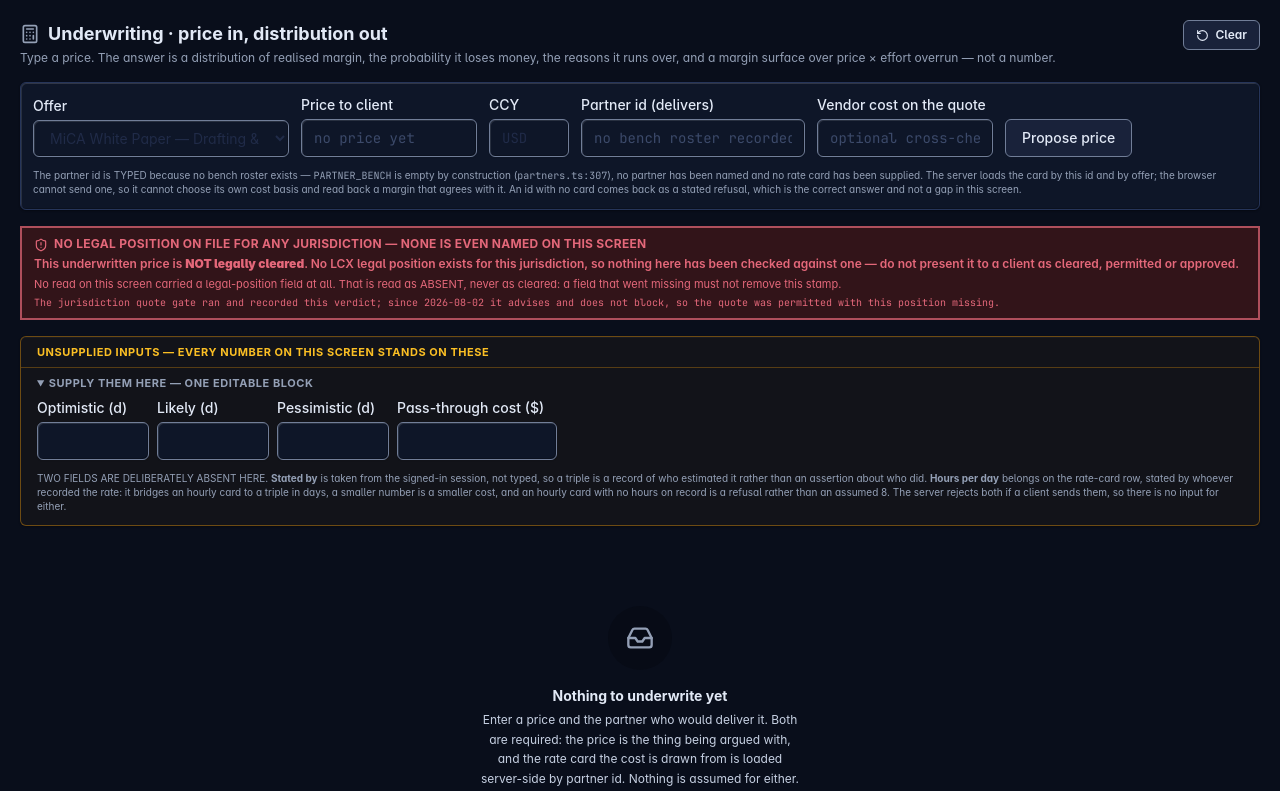
Test: the basis of the distribution › states that a prior comes from founder-entered estimates and not from outcomes
The width and height of the screenshot is (1280, 791).
Step 1. Type "10000" into the field with test id "price-input" → [389, 138], box [301,119,477,157]
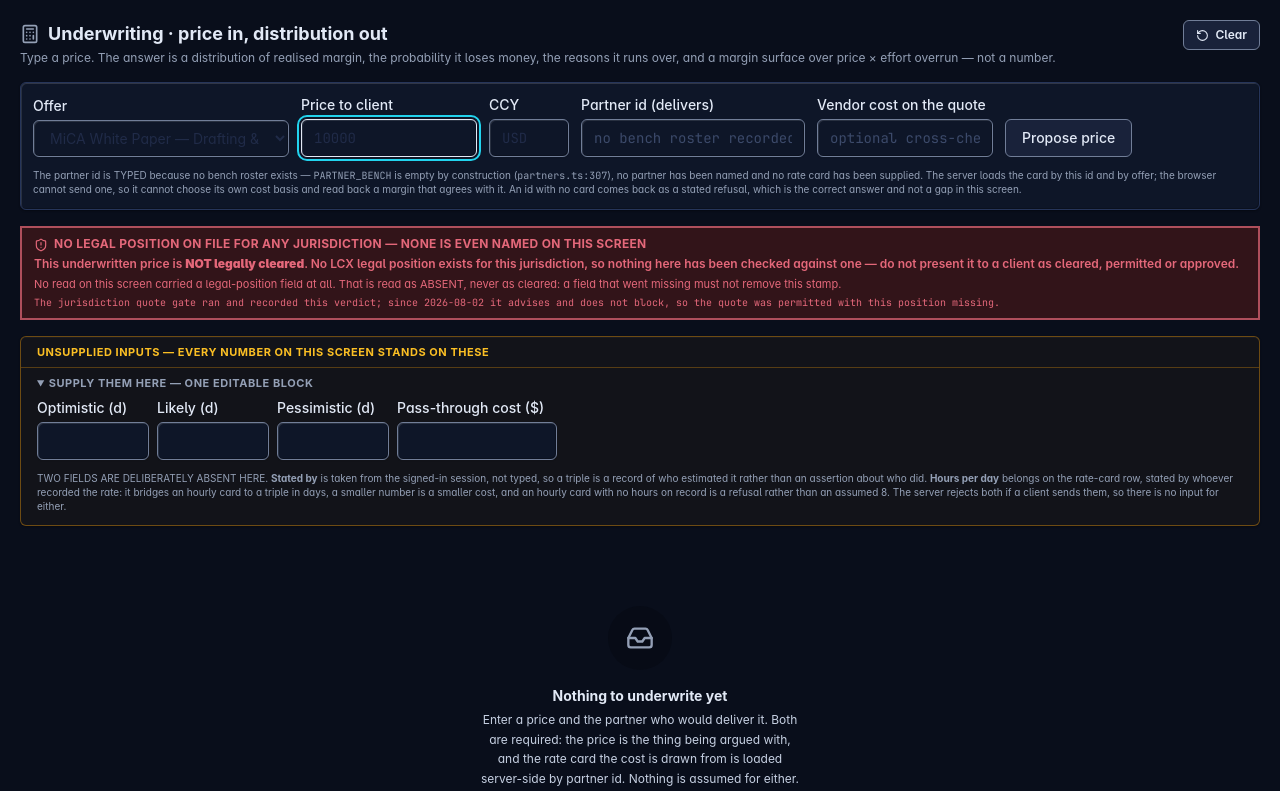
Step 2. Type "partner-1" into the field with test id "partner-input" → [693, 138], box [581,119,805,157]
(page scrolled)
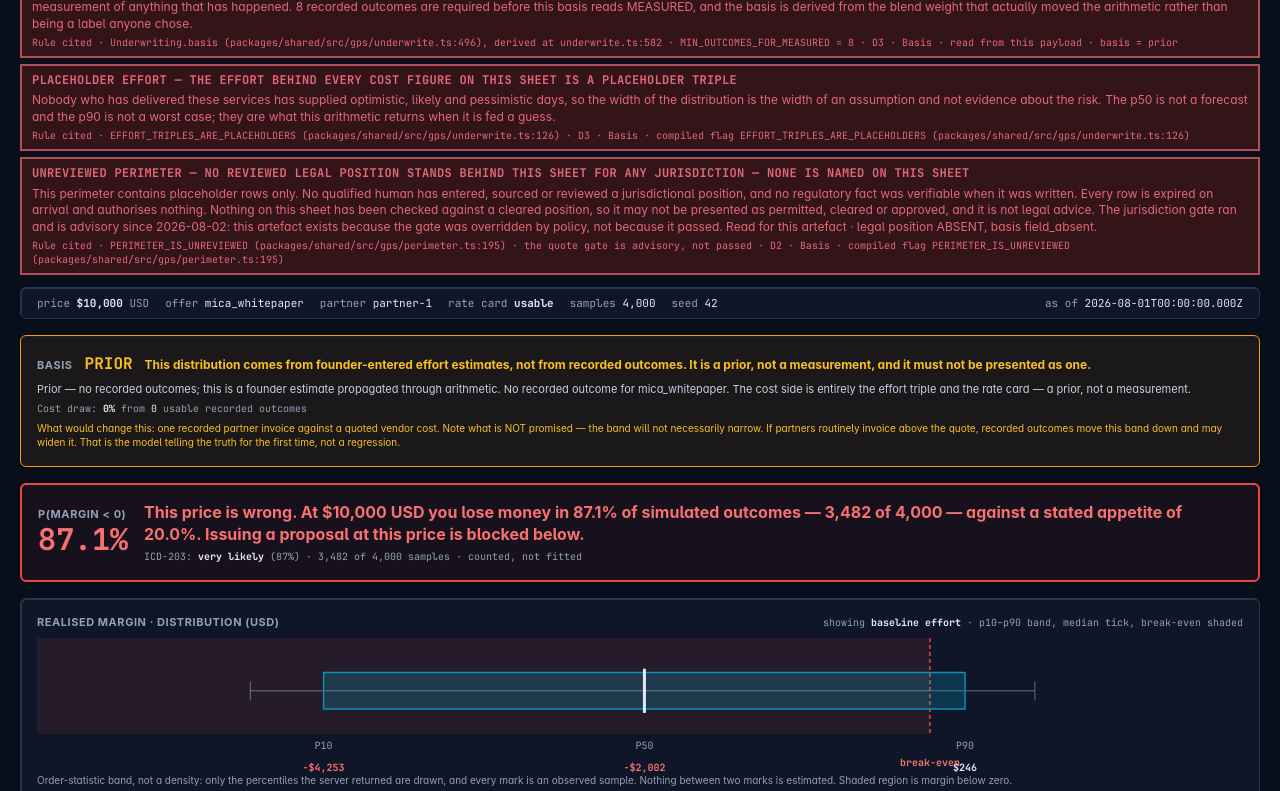
Now the text with test id "prior-warning" shows "founder-entered effort estimates", box [145,357,1091,372]
Now the text with test id "prior-warning" shows "not from recorded outcomes", box [145,357,1091,372]
Now the text with test id "prior-warning" shows "prior, not a measurement", box [145,357,1091,372]
